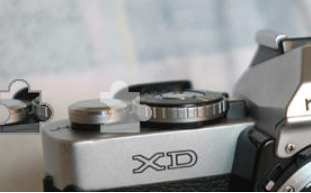target: (98, 77, 157, 137)
